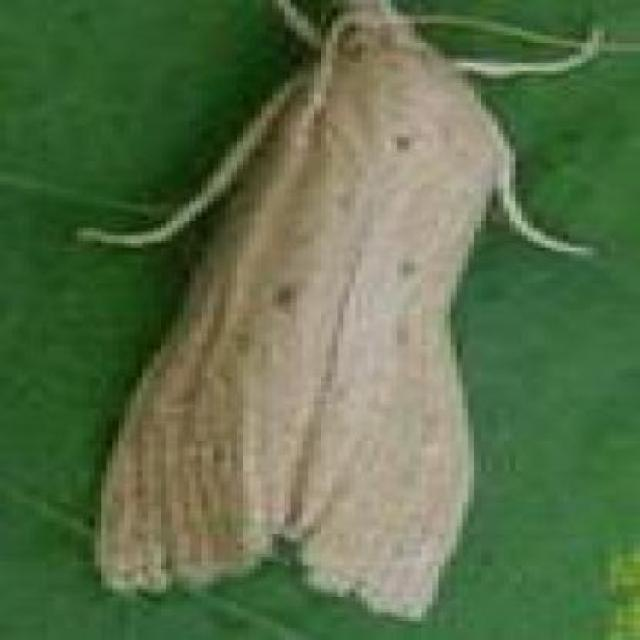stem-borer: (71, 0, 640, 626)
